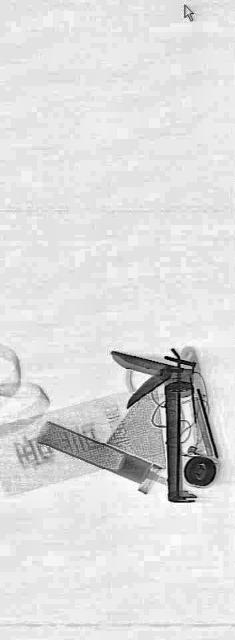Knife: (111, 344, 196, 504)
